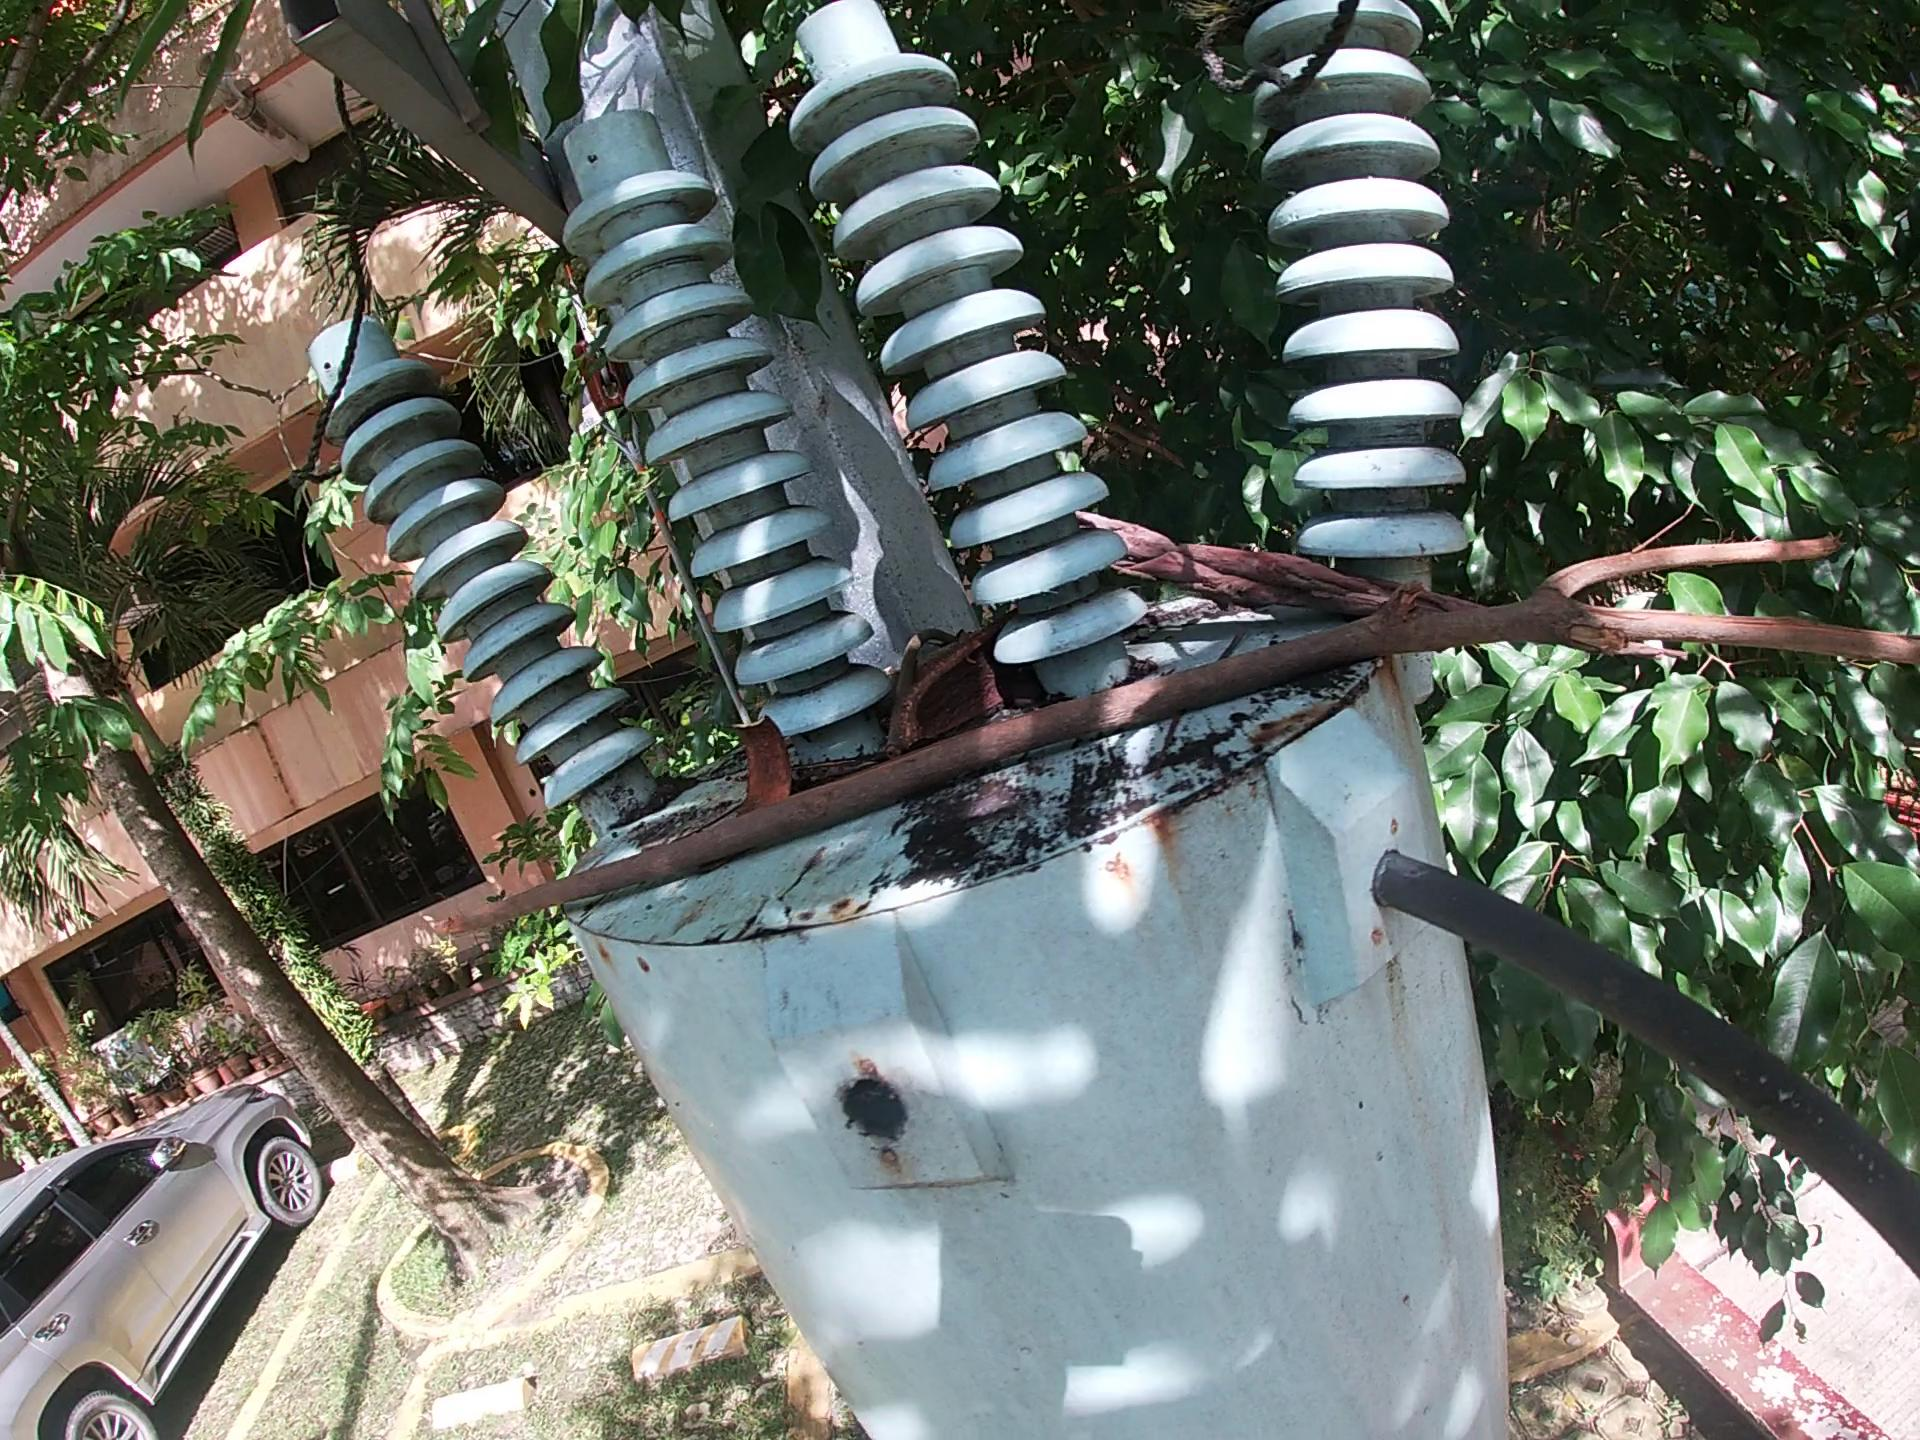mahogany fruit: (881, 616, 1017, 764), (723, 708, 792, 818)
tree branch: (429, 522, 1920, 950), (1064, 507, 1689, 666)
